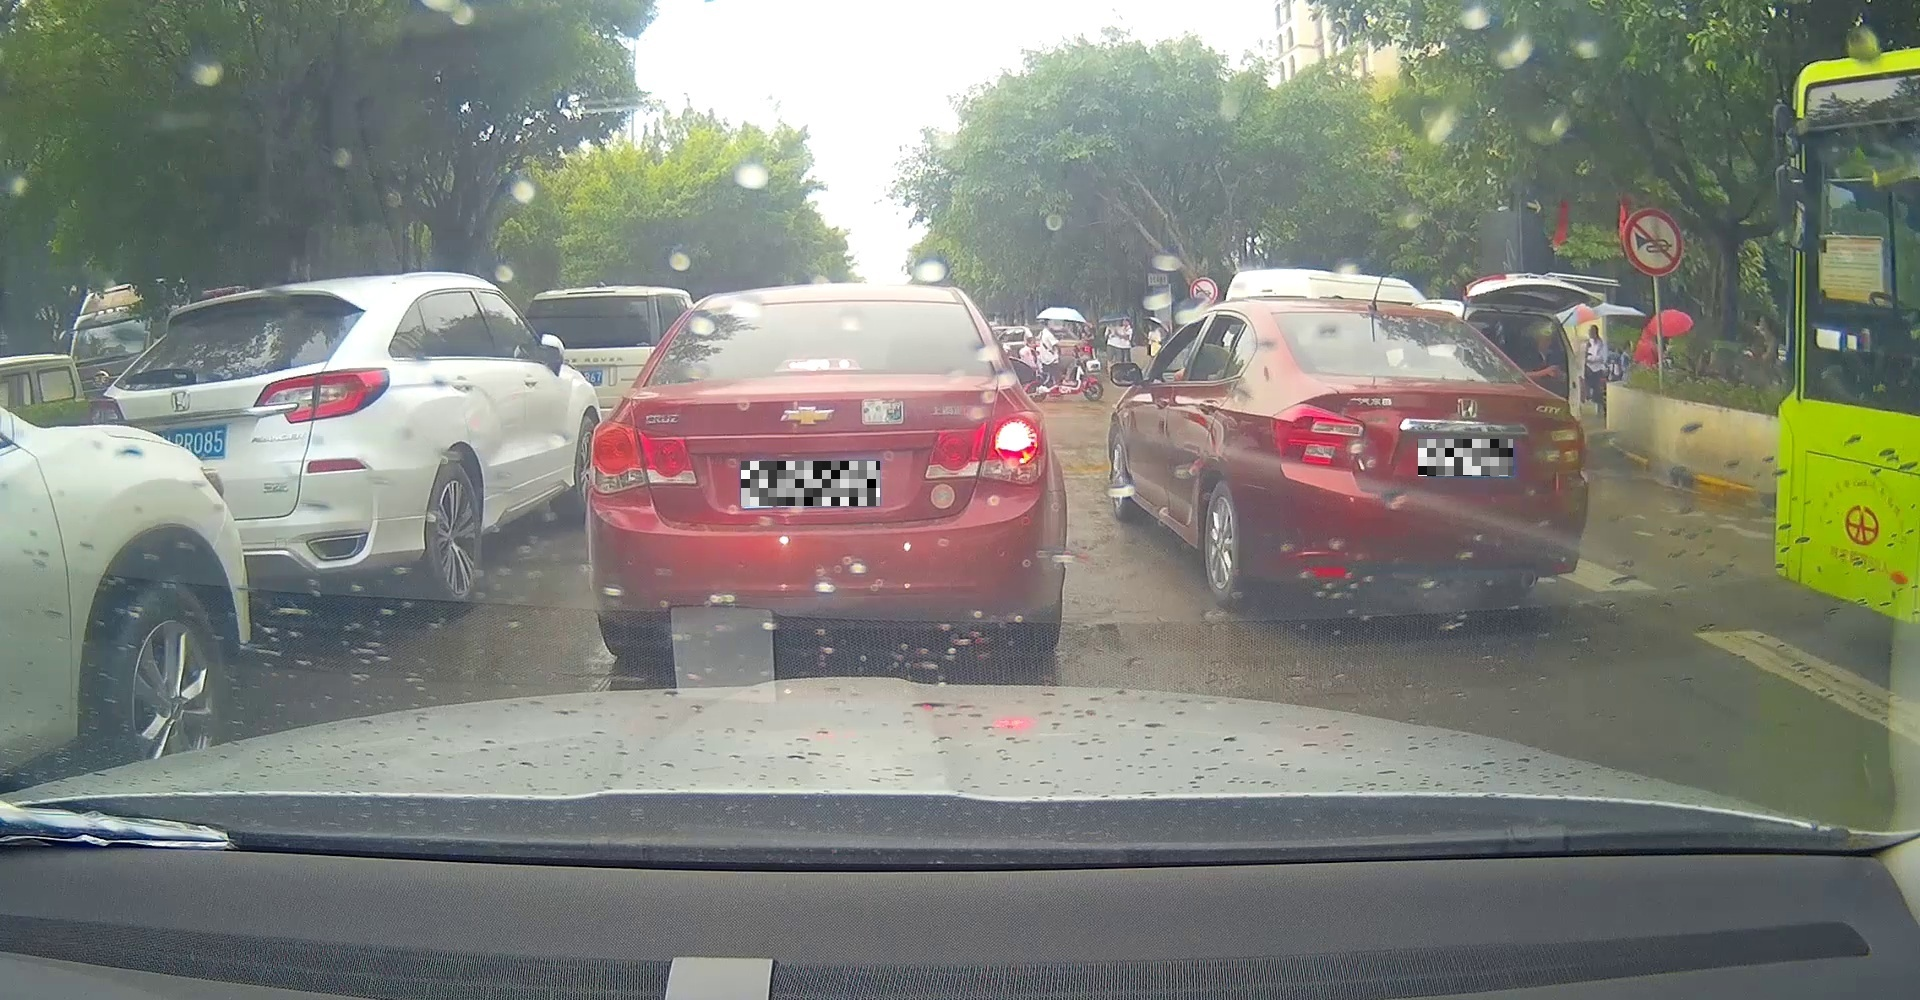L_light: (589, 420, 695, 494), (1269, 404, 1368, 471), (89, 393, 126, 426)
R_light: (924, 410, 1046, 484), (251, 367, 390, 424), (1525, 418, 1582, 473)
T_light: (775, 359, 862, 372), (1401, 367, 1479, 379), (215, 296, 263, 307)
day-no: (86, 283, 392, 621), (1263, 298, 1589, 613)
day-right: (585, 282, 1068, 659)
plate_1: (742, 461, 880, 506)
plate_2: (1418, 439, 1512, 476)
